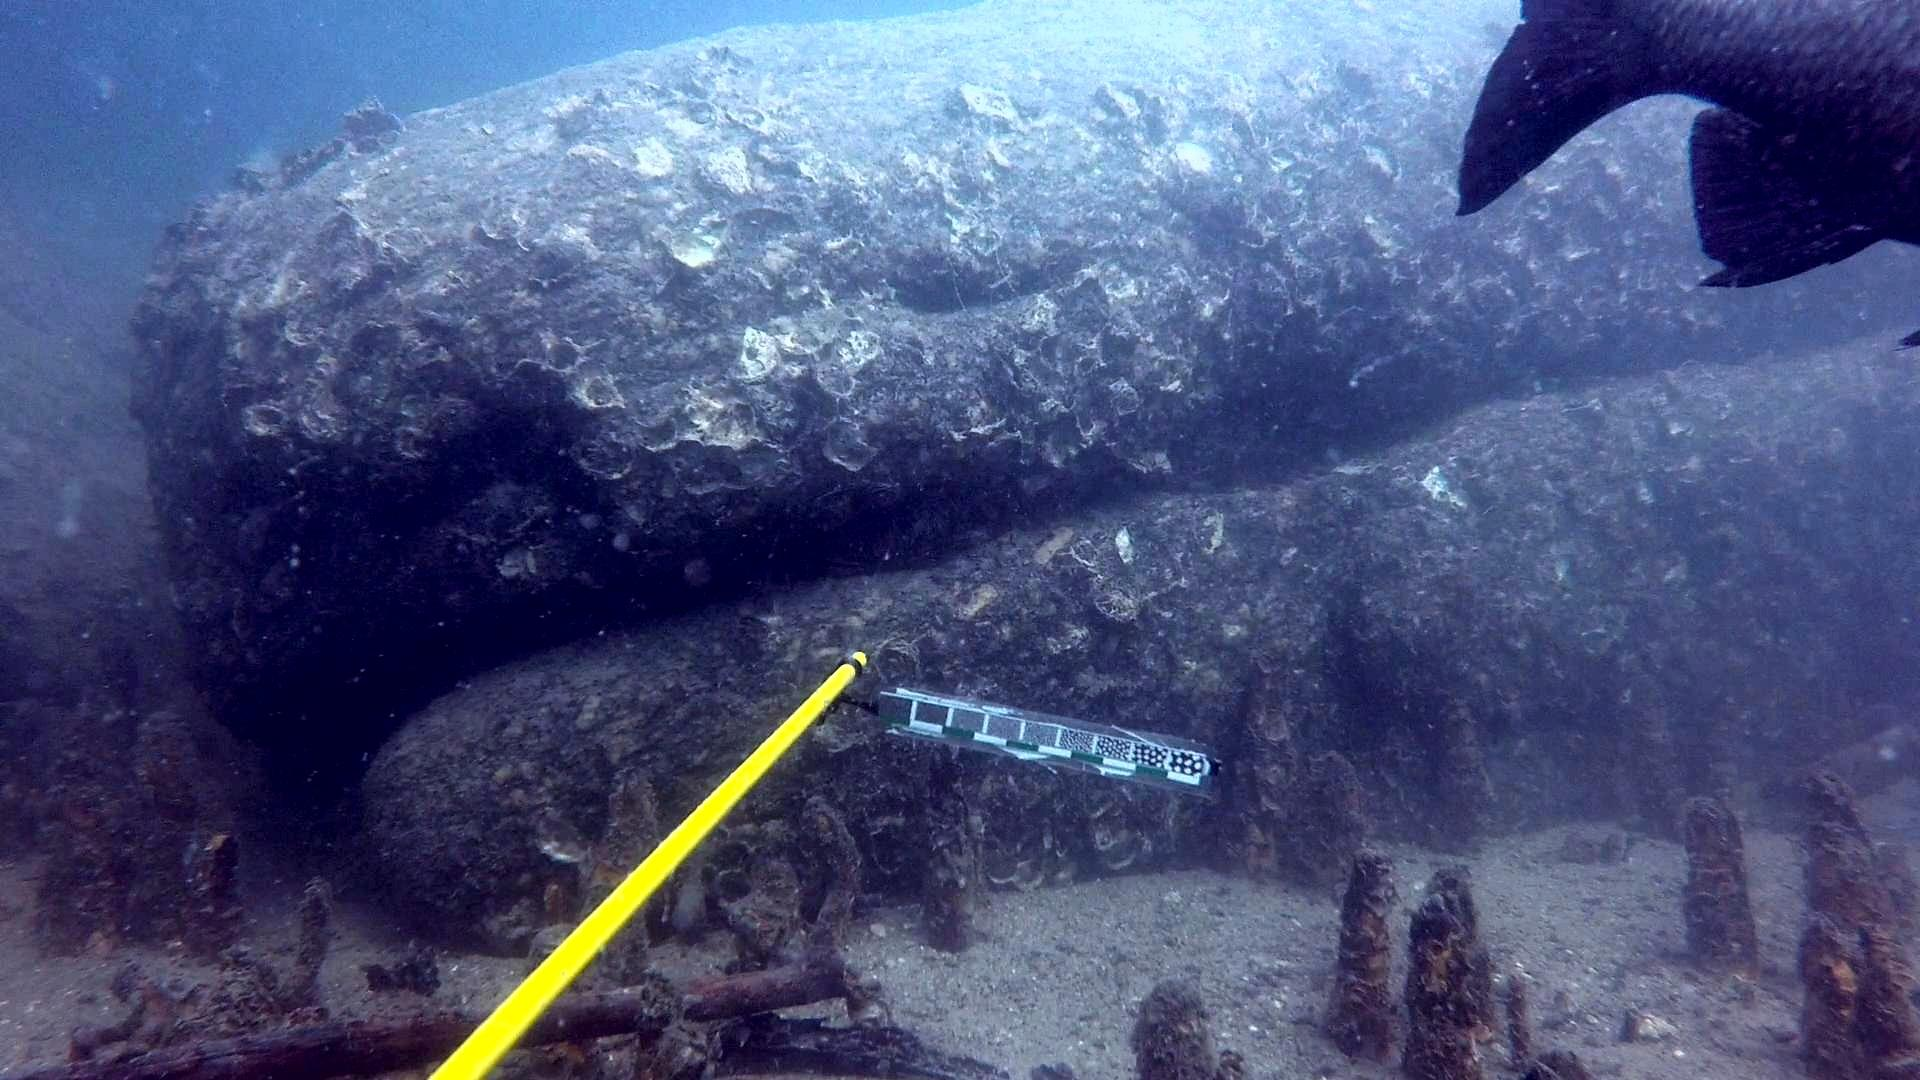acanthopagrus palmaris: (1443, 0, 1920, 313)
